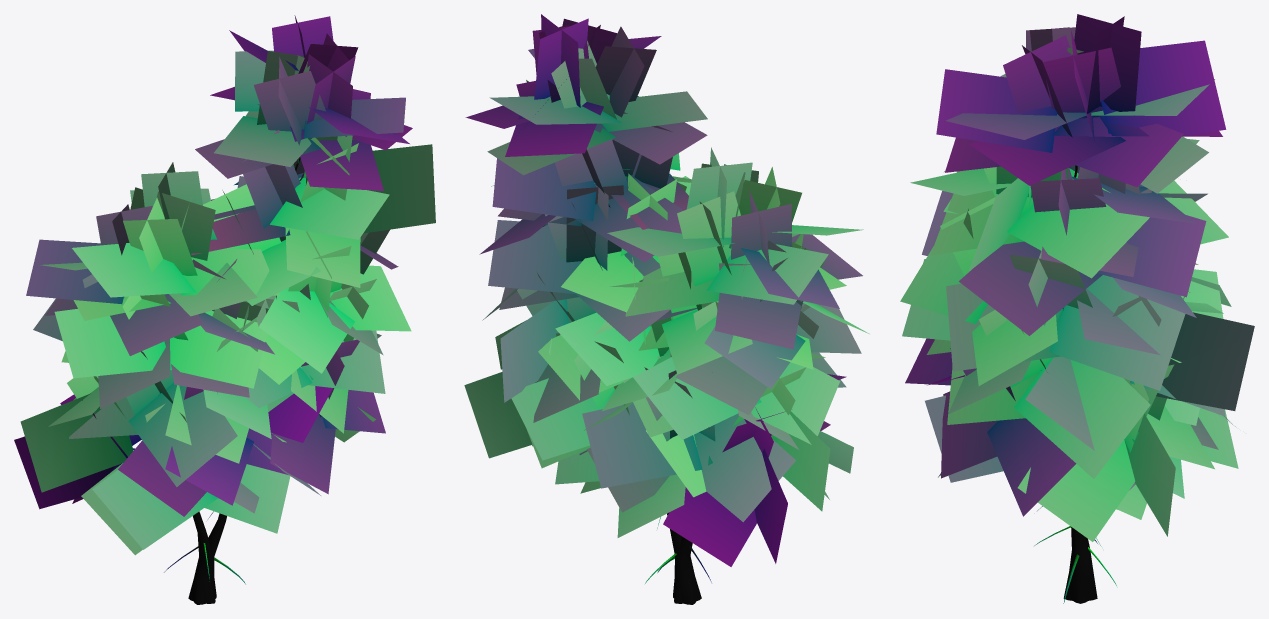
File: Tree_2_9.fbx
3 views of the same model, side by side, from view 1: azimuth 30°, elevation 25°; view 2: azimuth 150°, elevation 25°; view 3: azimuth 270°, elevation 25° (orthographic). The views are drawn at different scales.
Parts seen in each view (by area): view 1: _9; view 2: _9; view 3: _9.
Boxes of the visible parts, box(x1,y1,x2,y2) form: _9: box(14, 15, 435, 604); _9: box(464, 14, 869, 604); _9: box(900, 14, 1254, 603).
Size of the model in its own units: 1168 by 1703 by 856.
